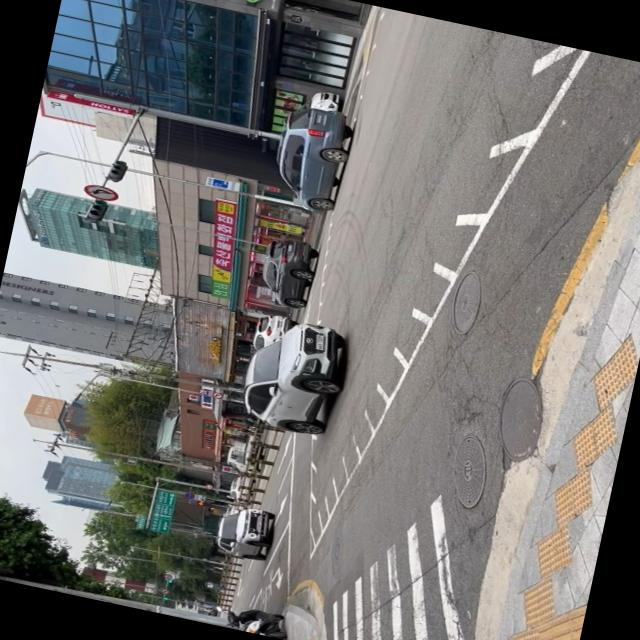building: (40, 0, 367, 158), (0, 269, 187, 374), (4, 428, 184, 531), (13, 184, 170, 272)
car: (234, 311, 354, 439), (256, 98, 376, 226), (253, 233, 320, 311), (212, 501, 278, 564), (250, 310, 298, 357)
